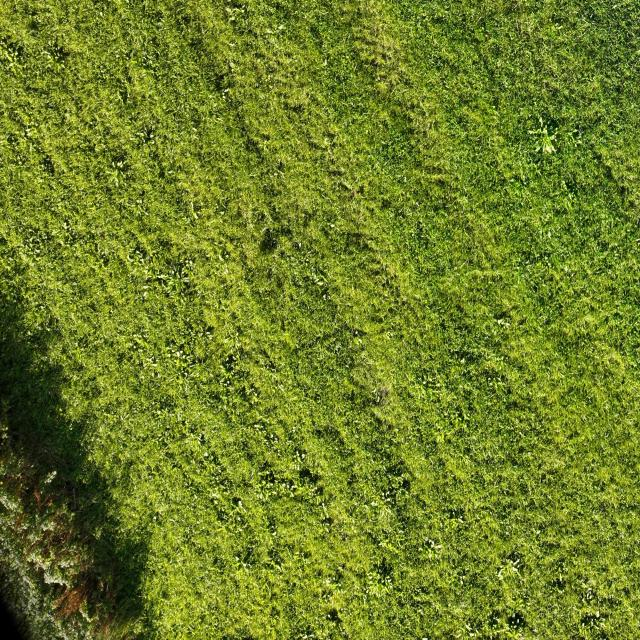rumex: (430, 328, 528, 492), (12, 234, 76, 350), (3, 100, 61, 202), (363, 447, 417, 536), (482, 556, 529, 639), (570, 568, 622, 636), (147, 253, 199, 320), (303, 577, 349, 640), (206, 472, 250, 536), (285, 436, 323, 502), (219, 346, 251, 405), (1, 36, 32, 76), (366, 568, 396, 604), (104, 157, 130, 196), (532, 121, 559, 158), (163, 343, 193, 375), (378, 258, 405, 293), (249, 520, 274, 554), (225, 3, 252, 33), (322, 571, 347, 603), (143, 246, 165, 277), (0, 417, 13, 468), (41, 46, 64, 72), (447, 409, 468, 436), (135, 124, 157, 149), (291, 449, 309, 472), (422, 536, 442, 556), (264, 554, 283, 574), (502, 559, 520, 577), (377, 505, 394, 524), (562, 194, 574, 218), (225, 343, 241, 361), (43, 570, 61, 586), (567, 129, 582, 148), (132, 334, 148, 350), (42, 469, 58, 485), (336, 180, 352, 195), (289, 484, 306, 498), (398, 476, 411, 494), (78, 603, 90, 622), (224, 354, 236, 371), (312, 272, 324, 288), (497, 317, 511, 329), (22, 126, 34, 140), (56, 402, 67, 417), (190, 201, 198, 221), (225, 7, 238, 19), (276, 159, 286, 173), (256, 489, 266, 502), (493, 380, 501, 396), (126, 254, 136, 266), (211, 492, 221, 504), (519, 171, 527, 185), (147, 358, 158, 368), (144, 273, 155, 283), (438, 431, 446, 444), (467, 629, 477, 639), (142, 288, 151, 299), (464, 622, 473, 633), (354, 336, 363, 347), (277, 168, 285, 180), (585, 588, 593, 600), (247, 468, 255, 480), (114, 160, 124, 169), (336, 563, 345, 573), (229, 62, 237, 73), (541, 125, 549, 136), (300, 632, 311, 640), (116, 452, 125, 461), (142, 268, 150, 278), (497, 570, 505, 580), (367, 240, 375, 250), (176, 411, 183, 422), (557, 574, 564, 585), (539, 117, 546, 128), (326, 575, 333, 586), (175, 351, 183, 360), (277, 23, 285, 32), (228, 15, 236, 24), (218, 254, 226, 263), (262, 225, 270, 234), (561, 181, 568, 191), (335, 344, 342, 354), (223, 266, 230, 276), (265, 28, 273, 36), (528, 128, 536, 136), (182, 276, 190, 284), (165, 288, 172, 297), (228, 42, 237, 49), (322, 58, 328, 68), (45, 556, 52, 564), (535, 143, 541, 152), (459, 357, 466, 364), (329, 223, 336, 230), (436, 380, 442, 388), (52, 470, 58, 478), (547, 230, 552, 239), (203, 451, 209, 458), (223, 87, 230, 93), (129, 135, 136, 141), (366, 360, 372, 367), (82, 476, 87, 484), (192, 127, 198, 133), (112, 160, 116, 168), (72, 282, 77, 288), (153, 515, 157, 522)
